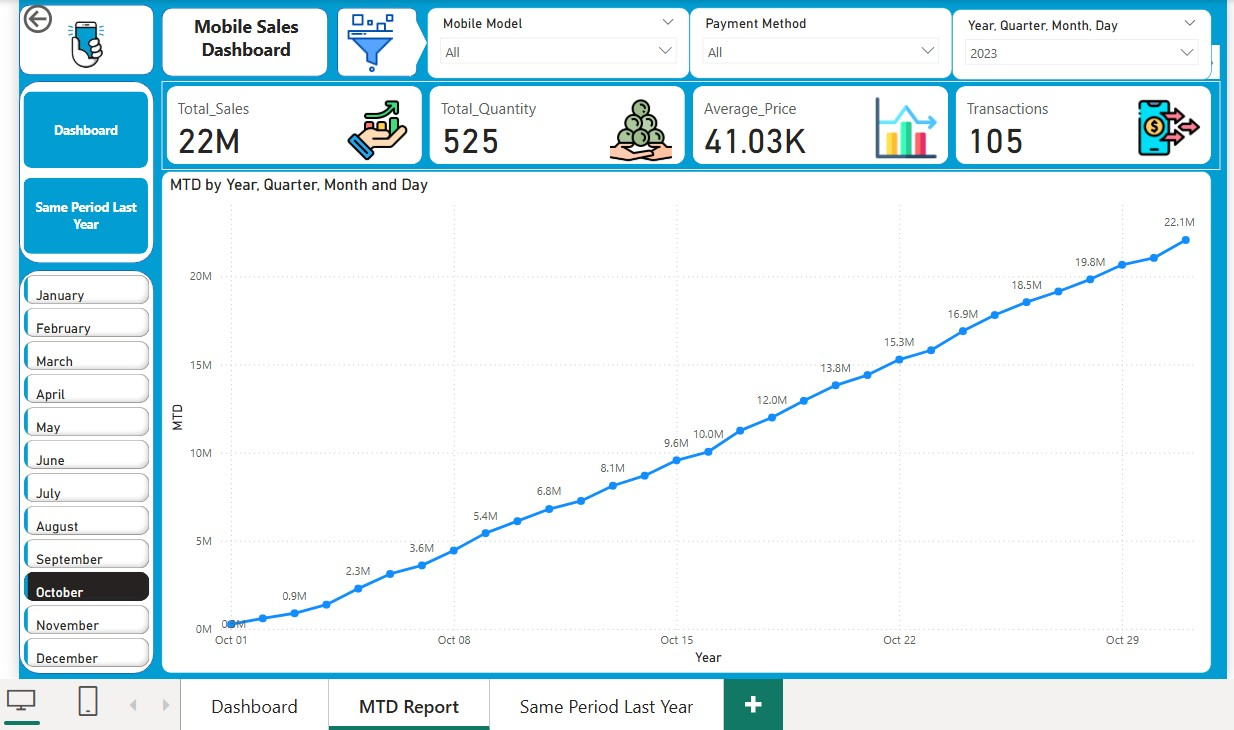

Layout of this report page (visuals, bound fields, positions):
{"tool":"powerbi","page":{"name":"MTD Report","canvas":[1280,720],"ordinal":1},"visuals":[{"type":"shape","box":[0,5,143.3,75],"z":0},{"type":"image","box":[33.3,8.3,75,75],"z":1000},{"type":"shape","box":[0,86.7,143.3,193.3],"z":2000},{"type":"cardVisual","fields":{"Data":["Sales_Data.Total_Sales","Sales_Data.Total_Quantity","Sales_Data.Average_Price","Sales_Data.Transactions"]},"box":[151.7,86.7,1121.7,93.3],"z":3000},{"type":"slicer","fields":{"Values":["Sales_Data.Mobile Model"]},"box":[433.3,8.3,278.3,75],"z":4000},{"type":"slicer","fields":{"Values":["Sales_Data.Payment Method"]},"box":[711.7,8.3,278.3,75],"z":5000},{"type":"slicer","fields":{"Values":["Custom_calendar.Date.Variation.Date Hierarchy.Year","Custom_calendar.Date.Variation.Date Hierarchy.Quarter","Custom_calendar.Date.Variation.Date Hierarchy.Month","Custom_calendar.Date.Variation.Date Hierarchy.Day"]},"box":[990,10,275,75],"z":6000},{"type":"shape","box":[336.7,8.3,85,73.3],"z":7000},{"type":"image","box":[336.7,5,73.3,81.7],"z":8000},{"type":"shape","box":[396.7,8.3,36.7,75],"z":9000},{"type":"shape","box":[151.7,8.3,176.7,73.3],"z":10000},{"type":"textbox","box":[160,10,160,71.7],"z":11000},{"type":"shape","box":[0,286.7,143.3,428.3],"z":12000},{"type":"advancedSlicerVisual","fields":{"Values":["Custom_calendar.Date.Variation.Date Hierarchy.Month"]},"box":[0,286.3,143.2,434.2],"z":13000},{"type":"actionButton","box":[0,0,100,40],"z":14000},{"type":"lineChart","fields":{"Y":["Sales_Data.MTD"],"Category":["Custom_calendar.Date.Variation.Date Hierarchy.Year","Custom_calendar.Date.Variation.Date Hierarchy.Quarter","Custom_calendar.Date.Variation.Date Hierarchy.Month","Custom_calendar.Date.Variation.Date Hierarchy.Day"]},"box":[151.1,181.3,1113.4,532.9],"z":15000},{"type":"pageNavigator","box":[4.8,97,132,173.4],"z":16000}]}

Visuals, with their boxes on the page's 1280x720 design canvas (x1, y1, x2, y2). These are canvas units, not pixel positions in the 1234x730 screenshot, which may show the page scaled, cropped or inside an application window:
shape: [0,5,143,80]
image: [33,8,108,83]
shape: [0,87,143,280]
cardVisual - Sales_Data.Total_Sales x Sales_Data.Total_Quantity: [152,87,1273,180]
slicer - Sales_Data.Mobile Model: [433,8,712,83]
slicer - Sales_Data.Payment Method: [712,8,990,83]
slicer - Custom_calendar.Date.Variation.Date Hierarchy.Year x Custom_calendar.Date.Variation.Date Hierarchy.Quarter: [990,10,1265,85]
shape: [337,8,422,82]
image: [337,5,410,87]
shape: [397,8,433,83]
shape: [152,8,328,82]
textbox: [160,10,320,82]
shape: [0,287,143,715]
advancedSlicerVisual - Custom_calendar.Date.Variation.Date Hierarchy.Month: [0,286,143,720]
actionButton: [0,0,100,40]
lineChart - Sales_Data.MTD x Custom_calendar.Date.Variation.Date Hierarchy.Year: [151,181,1264,714]
pageNavigator: [5,97,137,270]
